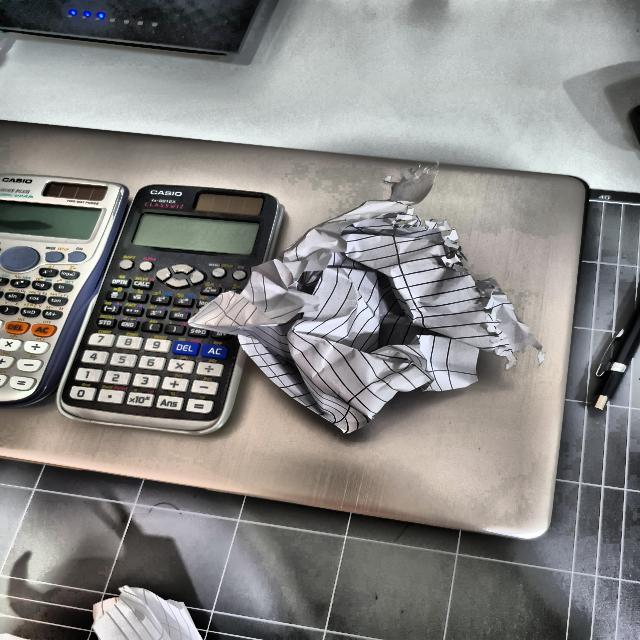Paper: (244, 191, 530, 442)
